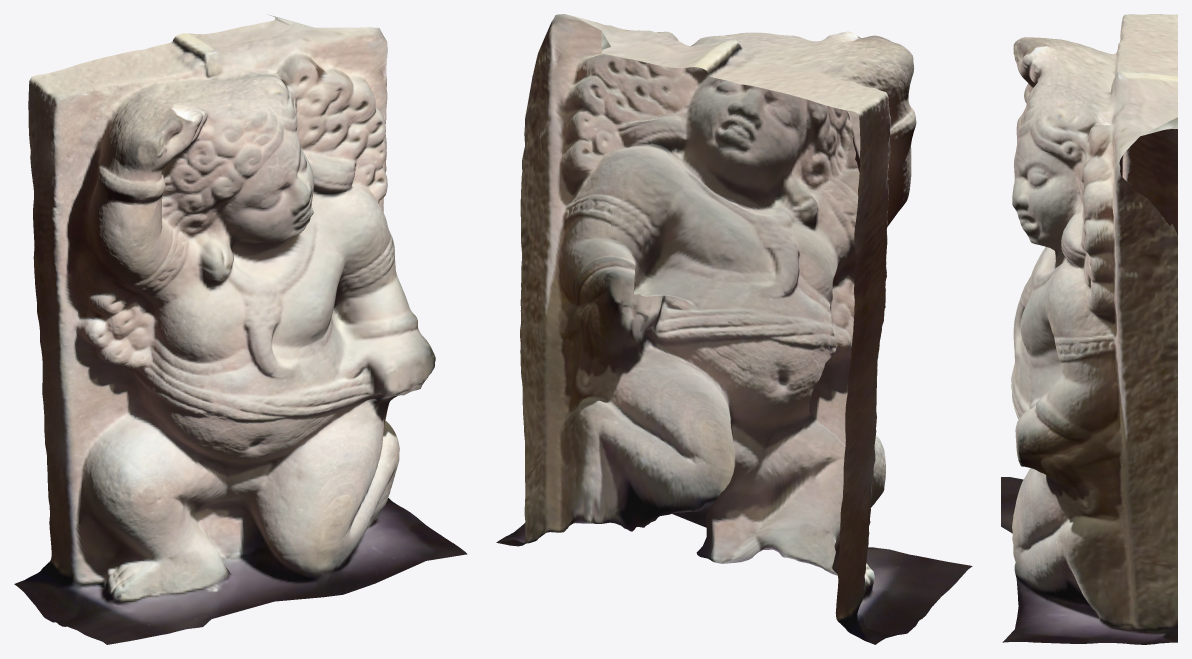
File: ajanta.glb
The picture shows the model from 3 angles, left to right: view 1: azimuth 30°, elevation 25°; view 2: azimuth 150°, elevation 25°; view 3: azimuth 270°, elevation 25°; orthographic projection. The views are drawn at different scales.
Parts seen in each view (by area): view 1: Object_2; view 2: Object_2; view 3: Object_2.
Part boxes in pixels (x1,y1,x2,y2): Object_2: [14, 14, 467, 644]; Object_2: [496, 14, 972, 644]; Object_2: [1001, 14, 1177, 644].
Bounding box in the file's own units: 0.5194 × 0.7337 × 0.2314.
Materials: 1 (1 with a texture image).
